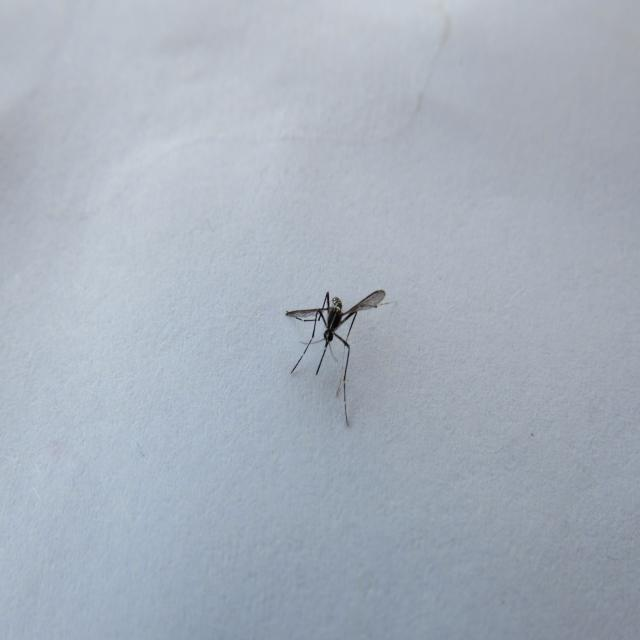albopictus: (281, 278, 391, 425)
